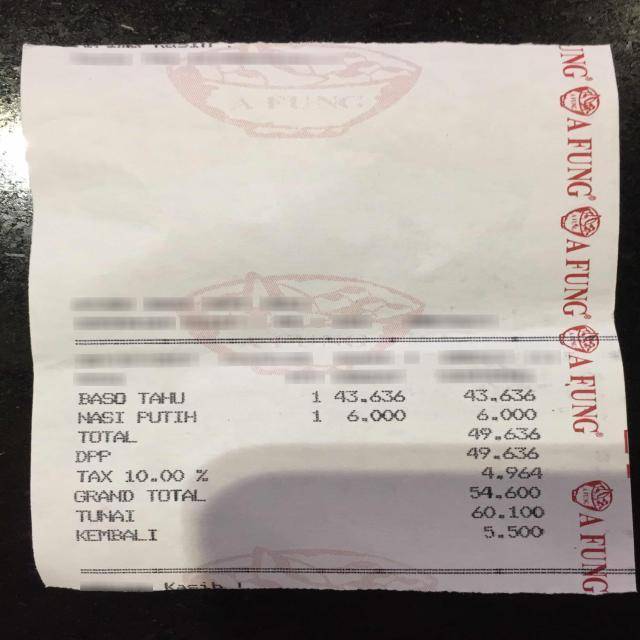kertas: (22, 40, 634, 598)
